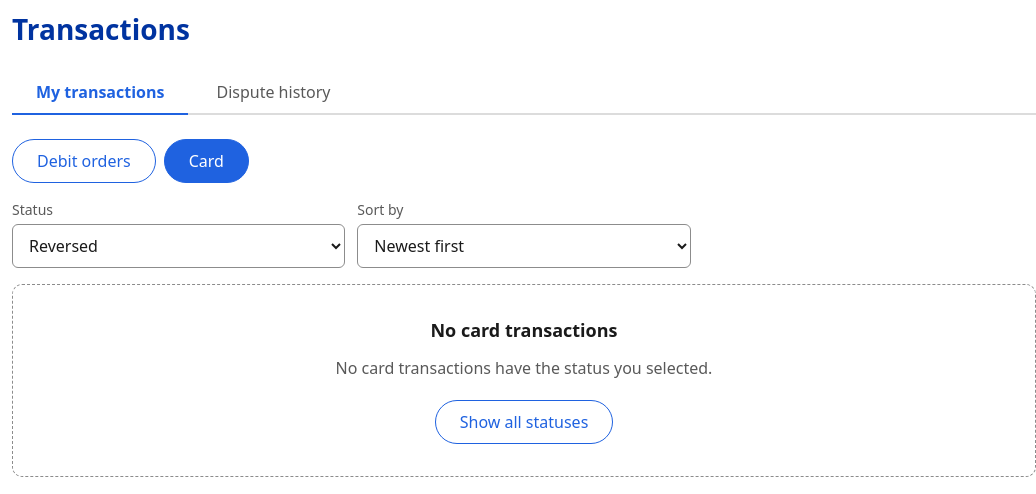
Test: card transaction list › shows the empty state, and offers all statuses when a status hid everything
Expected: the text "No card transactions" is shown, [430,317,618,344]
Expected: the text "No card transactions have the status you selected." is shown, [336,356,712,380]
Click the button "Show all statuses".
click(524, 422)  # box [435,400,613,444]
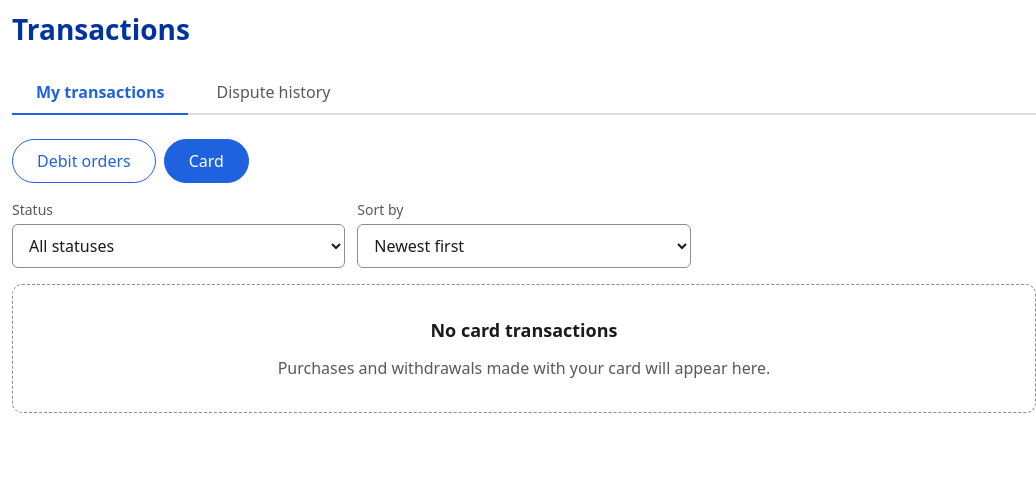
Now the text "Purchases and withdrawals made with your card will appear here." is shown, box [278,356,770,380]
